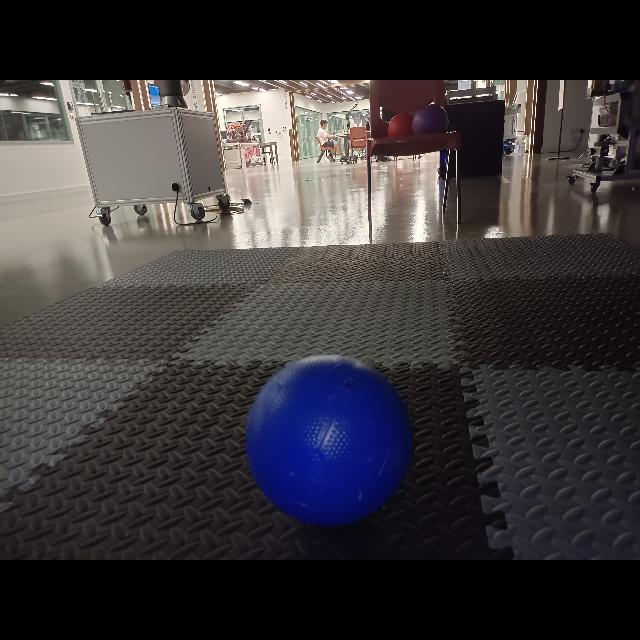B: (246, 354, 412, 526)
P: (413, 104, 449, 136)
R: (388, 114, 416, 138)
